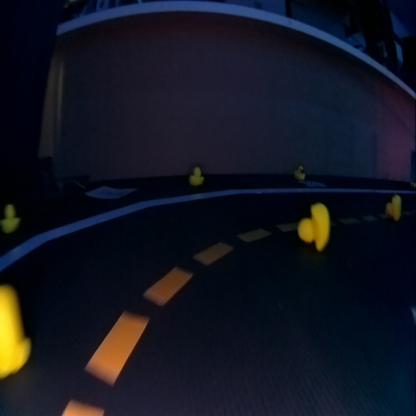Duckie: (297, 200, 330, 251), (4, 204, 19, 231), (385, 195, 401, 216), (192, 166, 203, 184), (293, 166, 304, 178)
